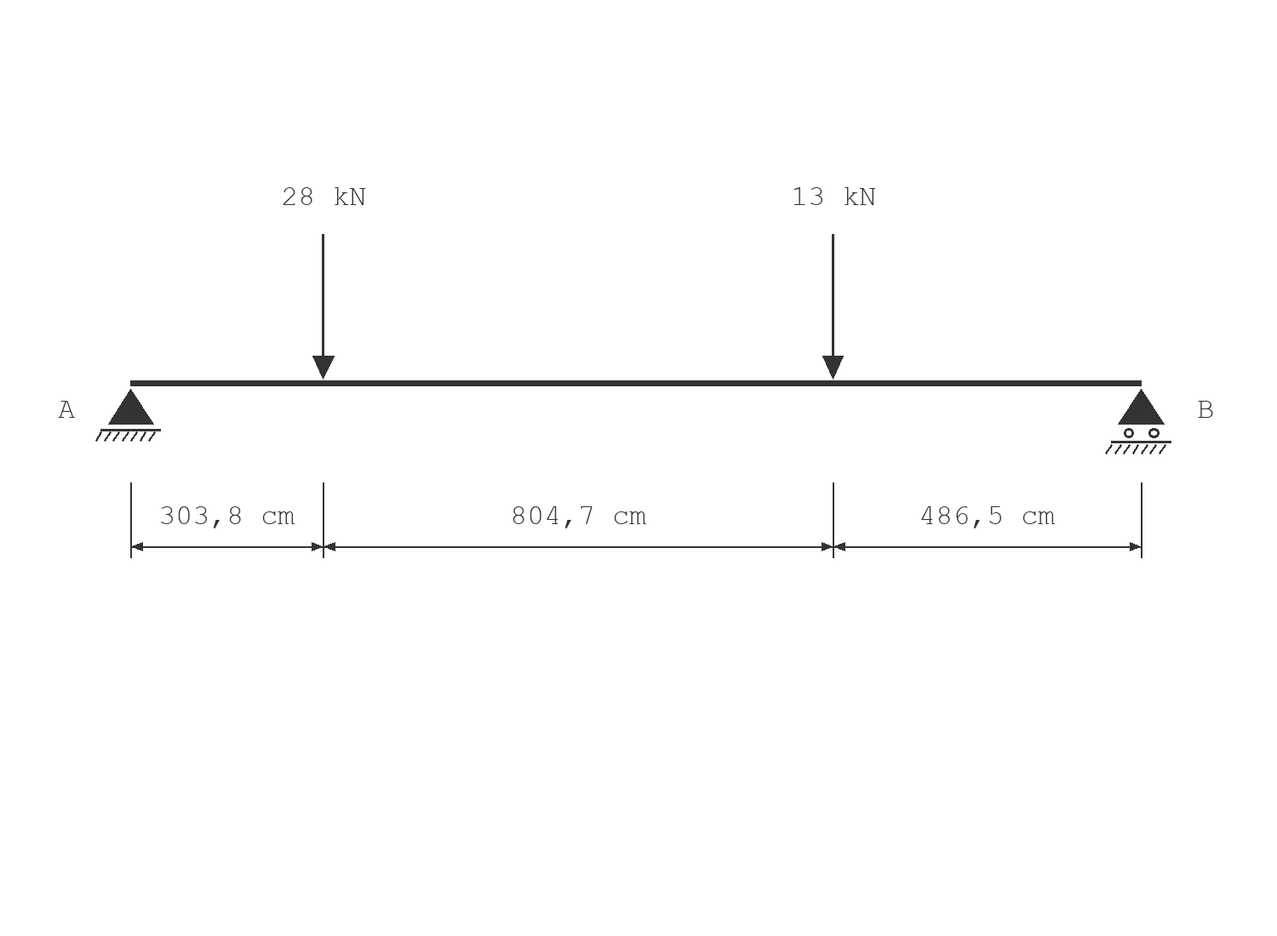pin_support: (95, 389, 161, 442)
point_load: (312, 234, 335, 380), (822, 234, 844, 380)
roller_support: (1105, 389, 1171, 454)
